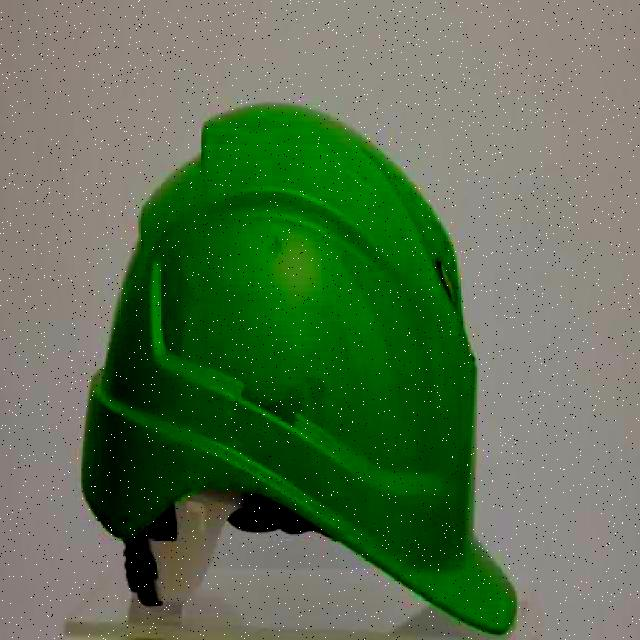Helmet: (77, 87, 525, 638)
